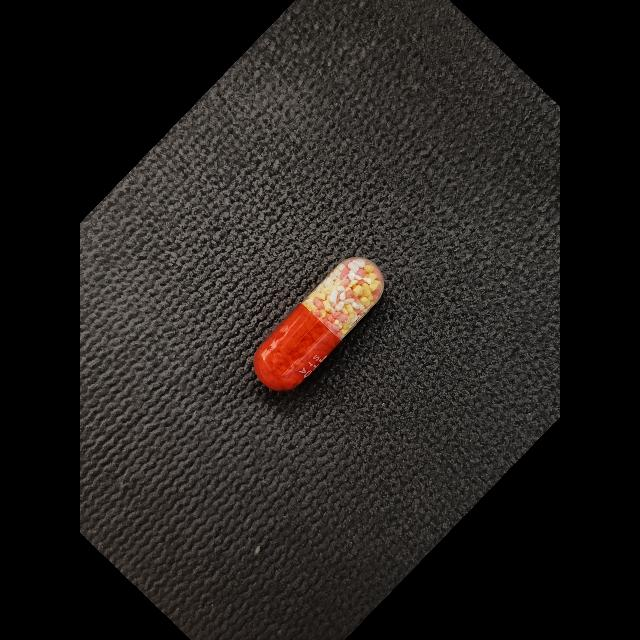Intact Capsule: (253, 257, 384, 391)
